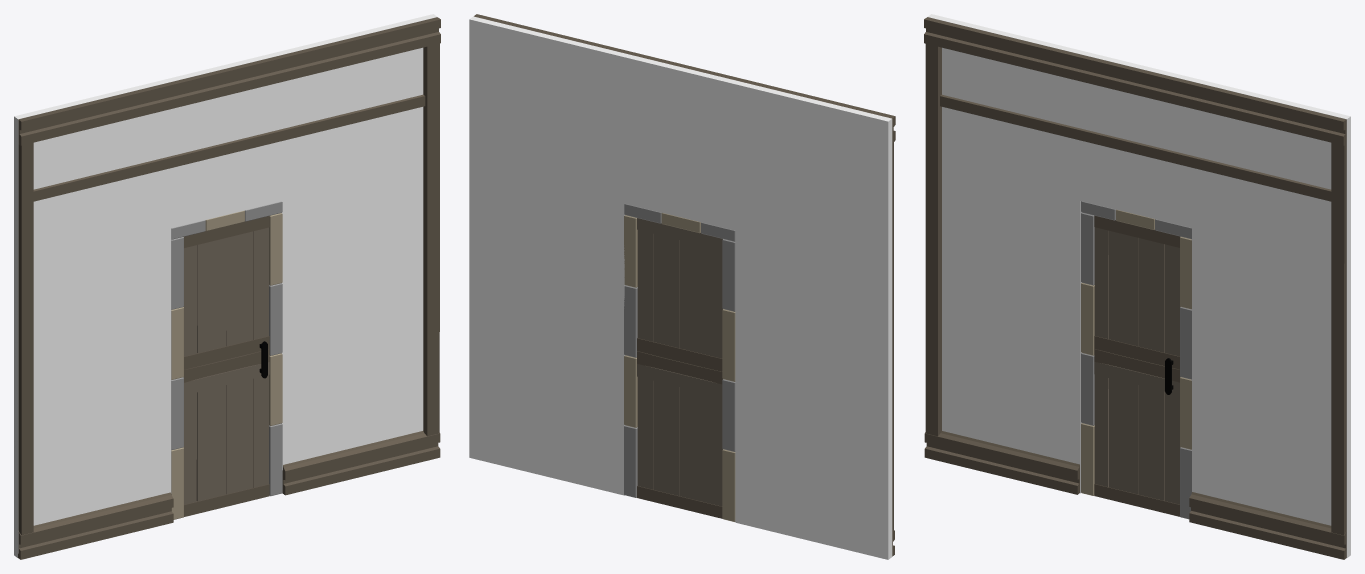
The model's file is DOOR_04_1.glb.
3 views of the same model, side by side, from view 1: azimuth 30°, elevation 25°; view 2: azimuth 150°, elevation 25°; view 3: azimuth 330°, elevation 25° (orthographic).
Visible parts, largest first — view 1: DOOR_04_1; view 2: DOOR_04_1; view 3: DOOR_04_1.
Boxes of the visible parts, bbox=[...] form: DOOR_04_1: bbox=[14, 14, 440, 559]; DOOR_04_1: bbox=[469, 14, 895, 559]; DOOR_04_1: bbox=[924, 14, 1350, 559].
Bounding box in the file's own units: 3 × 3 × 0.0914.
1 material, 1 textured.
